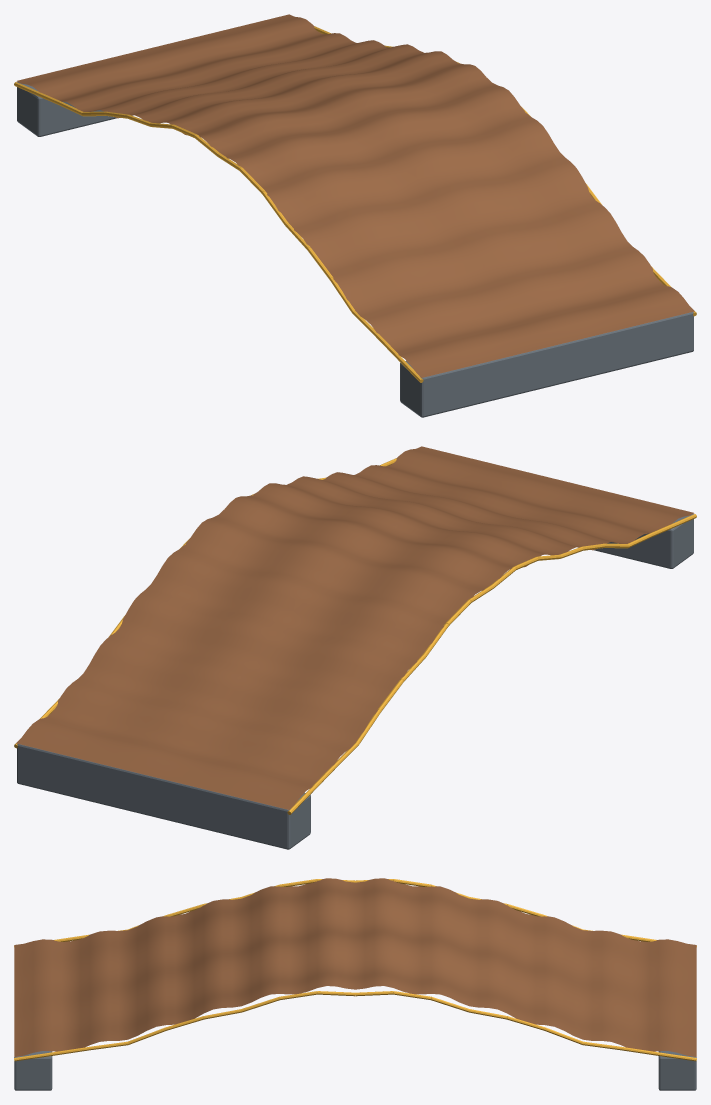
The model's file is lane_live.glb.
3 renders of one model, top to bottom at view 1: azimuth 30°, elevation 25°; view 2: azimuth 150°, elevation 25°; view 3: azimuth 270°, elevation 25°, orthographic. The views are drawn at different scales.
Parts seen in each view (by area): view 1: Ride_Ramp, Ramp foundation.001, Ramp foundation; view 2: Ride_Ramp, Ramp foundation, Ramp foundation.001; view 3: Ride_Ramp, Ramp foundation, Ramp foundation.001.
Boxes of the visible parts, left/top/right/bottom form: Ride_Ramp: left=16, top=14, right=694, bottom=377; Ramp foundation.001: left=400, top=312, right=693, bottom=417; Ramp foundation: left=17, top=82, right=116, bottom=136; Ride_Ramp: left=16, top=446, right=694, bottom=809; Ramp foundation: left=17, top=744, right=310, bottom=849; Ramp foundation.001: left=594, top=514, right=693, bottom=568; Ride_Ramp: left=14, top=878, right=696, bottom=1056; Ramp foundation: left=658, top=1051, right=696, bottom=1090; Ramp foundation.001: left=14, top=1051, right=52, bottom=1090.
Size of the model in its own units: 14.2 by 6.16 by 36.03.
